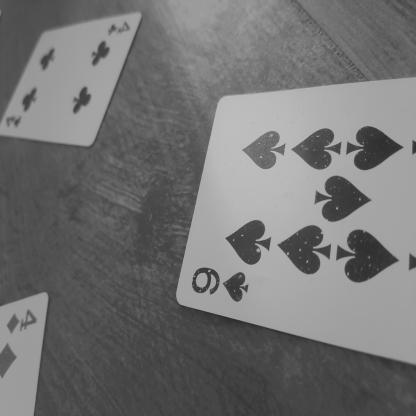4D: (1, 306, 40, 342)
9S: (188, 260, 254, 314)
